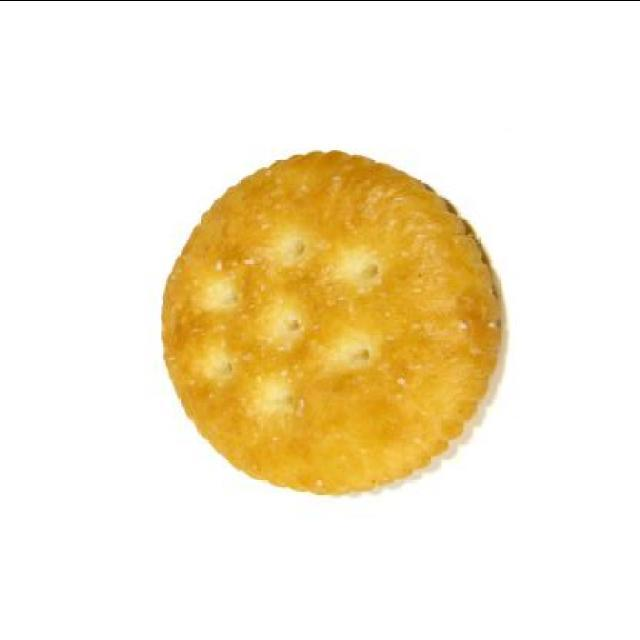Ritz cracker packaged: (152, 130, 510, 493)
